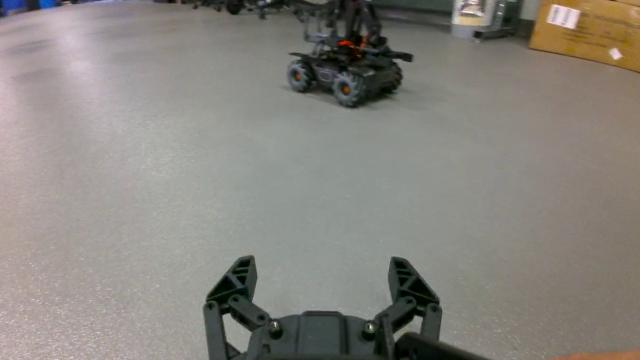robot: (285, 0, 414, 107)
